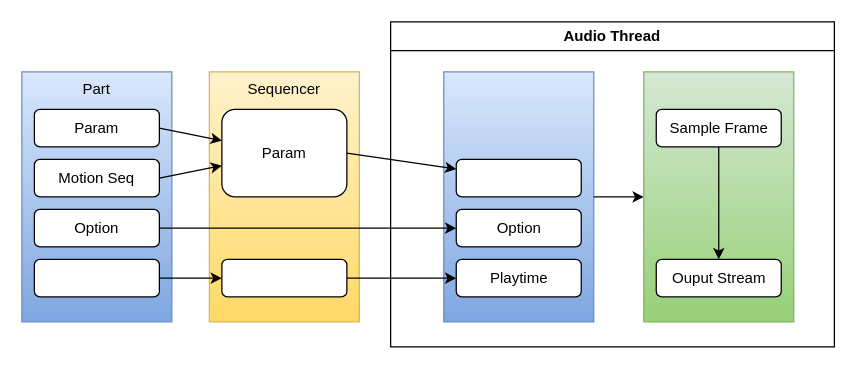
This 856x369 diagram has some shape labels left out. Each missing label, with the box of its shape:
Audio Output: (642, 71, 794, 322)
Param (Frame): (455, 158, 581, 197)
Seq: (33, 258, 159, 297)
Sequence: (221, 258, 347, 297)
Synth: (442, 71, 594, 322)
